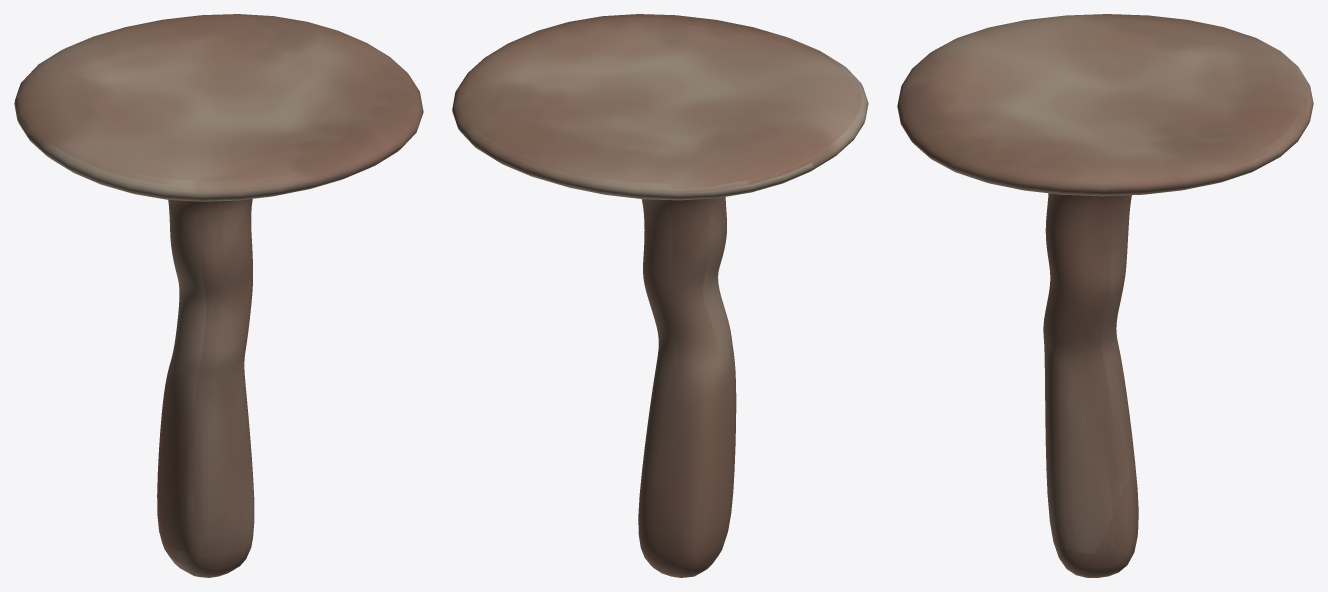
File: flatmushroom1.fbx
The picture shows the model from 3 angles, left to right: view 1: azimuth 30°, elevation 25°; view 2: azimuth 150°, elevation 25°; view 3: azimuth 270°, elevation 25°; orthographic projection. The views are drawn at different scales.
Visible parts, largest first — view 1: Cube; view 2: Cube; view 3: Cube.
Part boxes in pixels (left/top/right/bottom): Cube: left=14, top=14, right=423, bottom=577; Cube: left=452, top=14, right=868, bottom=577; Cube: left=897, top=14, right=1313, bottom=577.
Size of the model in its own units: 1048 by 1361 by 1045.
